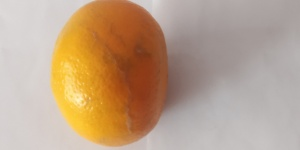BAD: (49, 1, 171, 144)
